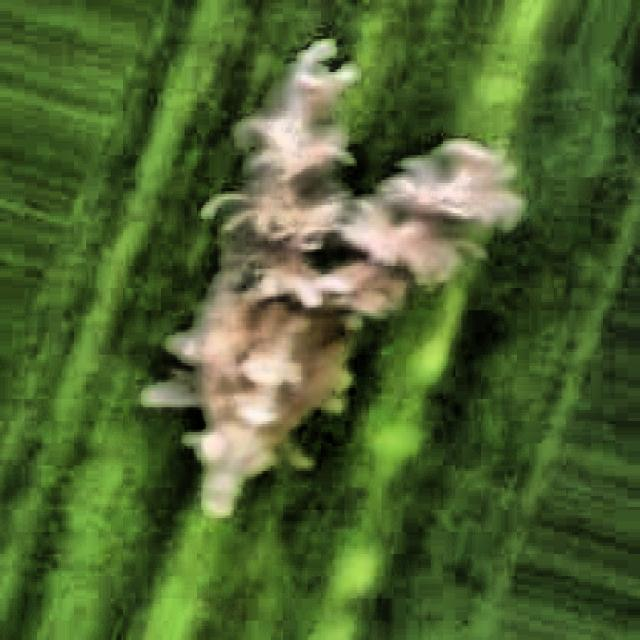Pyrilla-perpusilla: (154, 20, 514, 517)
